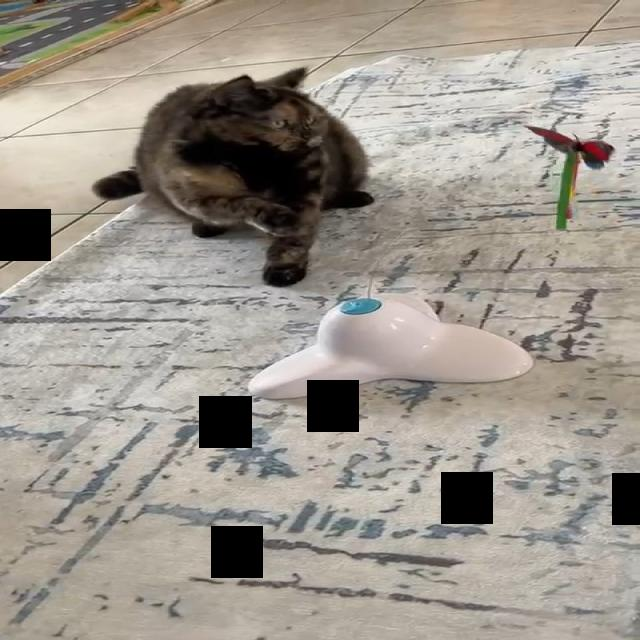authorized: (90, 66, 374, 286)
